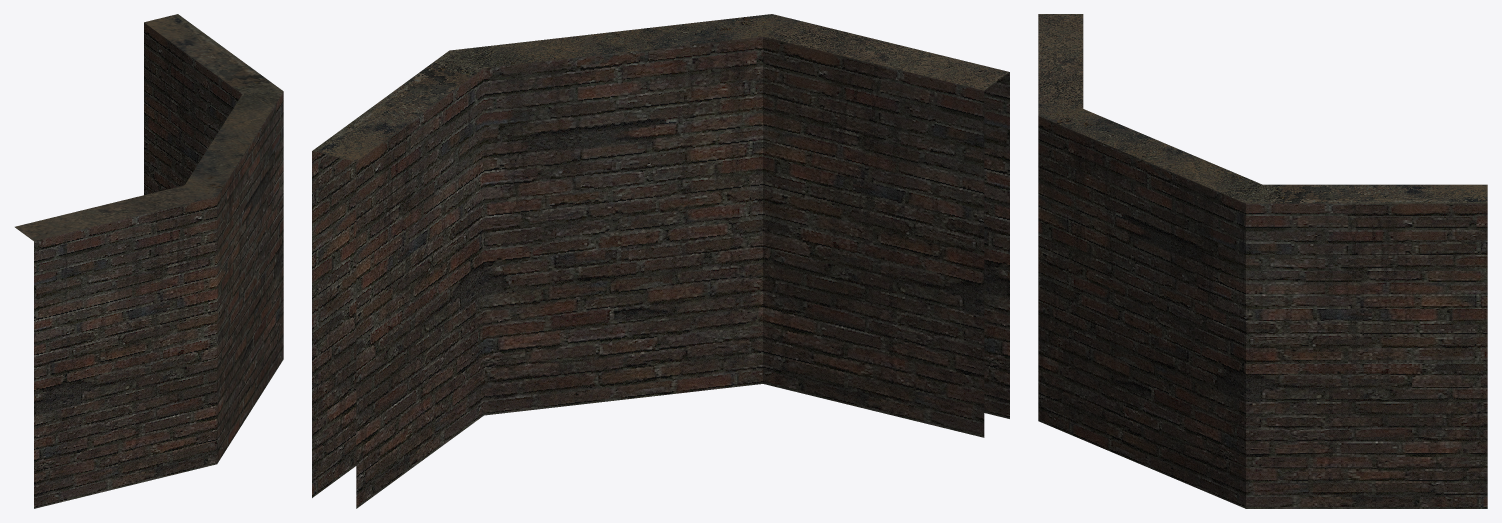
Rendered from wall_hs_1_m2a_1.glb.
3 renders of one model, left to right at view 1: azimuth 30°, elevation 25°; view 2: azimuth 150°, elevation 25°; view 3: azimuth 270°, elevation 25°, orthographic. The views are drawn at different scales.
Visible parts, largest first — view 1: wall_hs_1_m2a_1; view 2: wall_hs_1_m2a_1; view 3: wall_hs_1_m2a_1.
Part boxes in pixels (box(x1,y1,x2,y2)): wall_hs_1_m2a_1: box(15, 14, 283, 508); wall_hs_1_m2a_1: box(312, 14, 1009, 508); wall_hs_1_m2a_1: box(1038, 14, 1487, 508).
Size of the model in its own units: 4 by 3 by 4.
2 materials, 2 textured.
